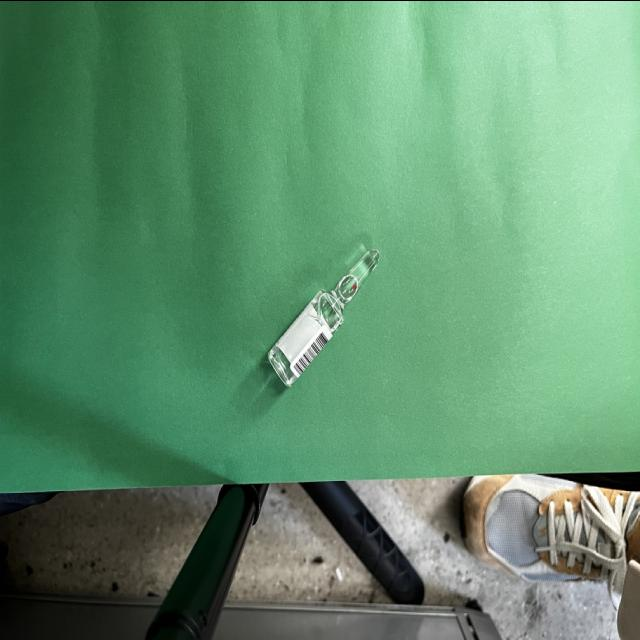Ampoules: (268, 249, 380, 386)
